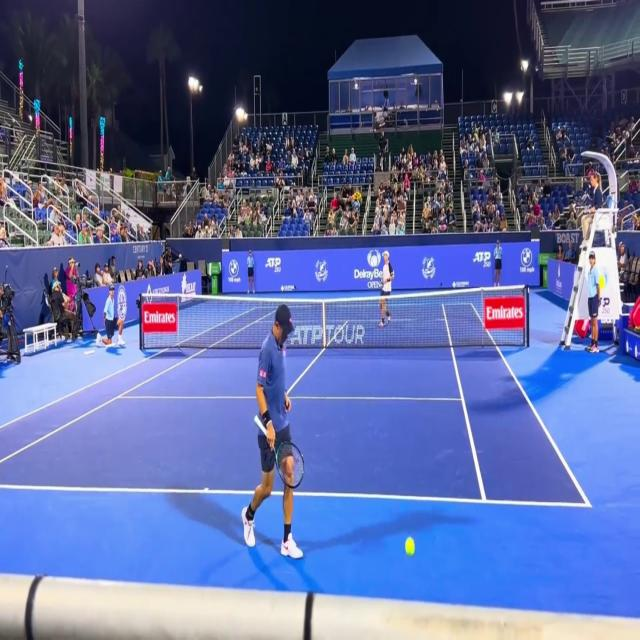tennisBall: (402, 534, 416, 562)
